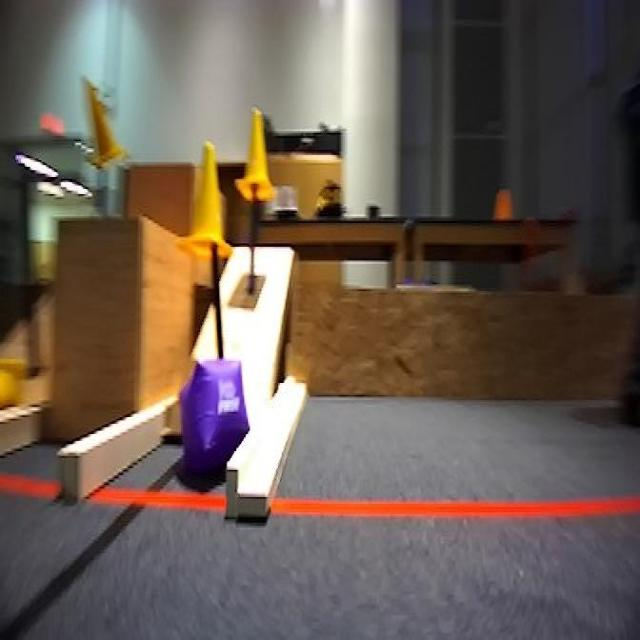frc_cone: (180, 138, 233, 257), (235, 109, 276, 202), (84, 78, 126, 168), (0, 361, 26, 427)
frc_cube: (180, 354, 250, 473)
